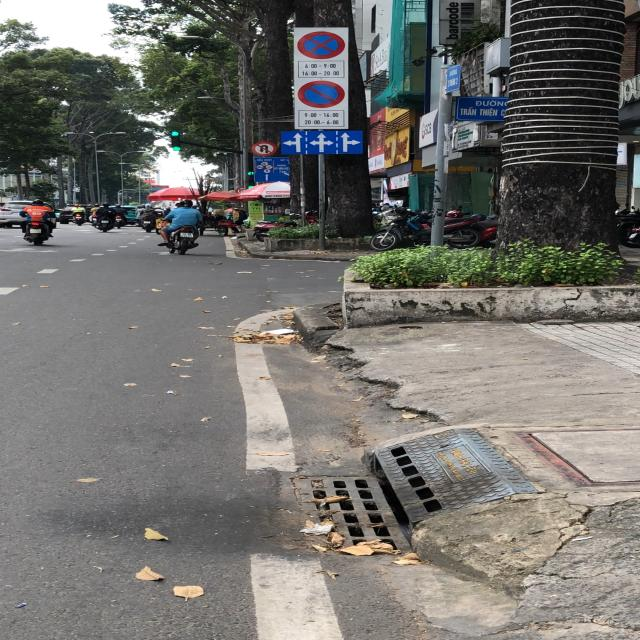Bien bao cam do xe: (296, 79, 350, 111)
Bien bao cam dung xe va do xe: (293, 28, 348, 62)
Bien bao cam quay dau xe: (251, 140, 278, 156)
